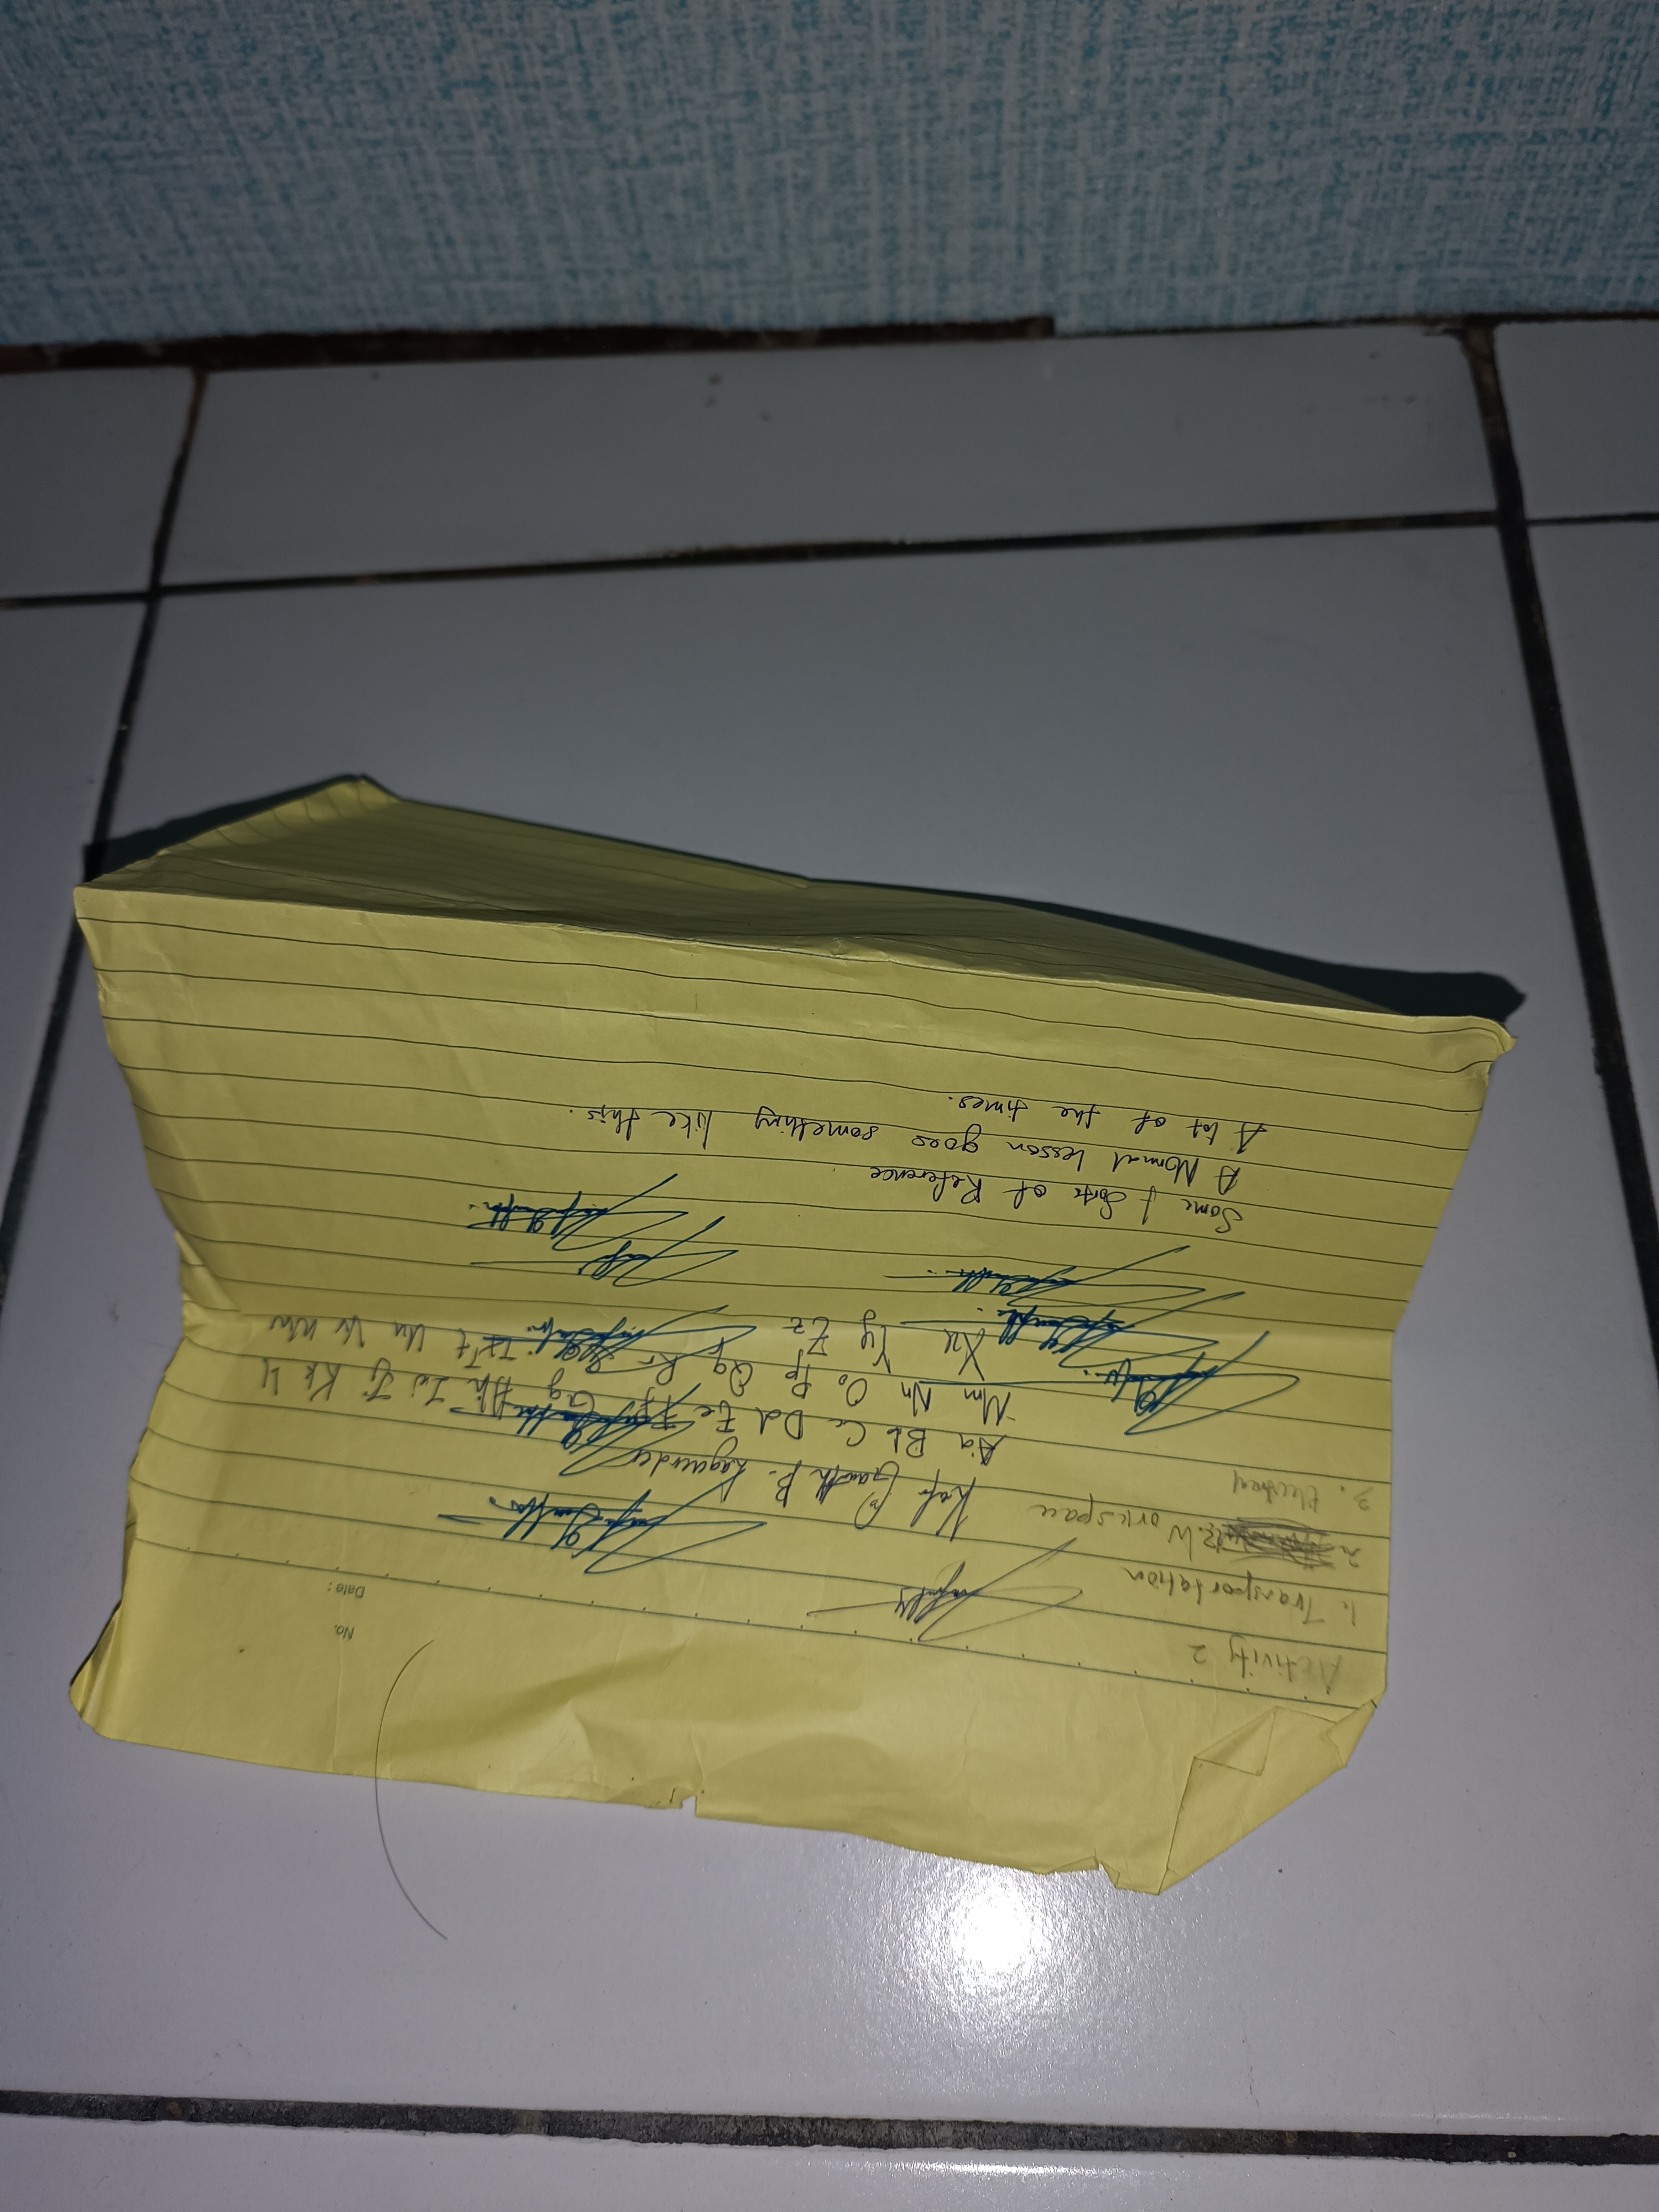Paper: (73, 693, 1474, 1905)
